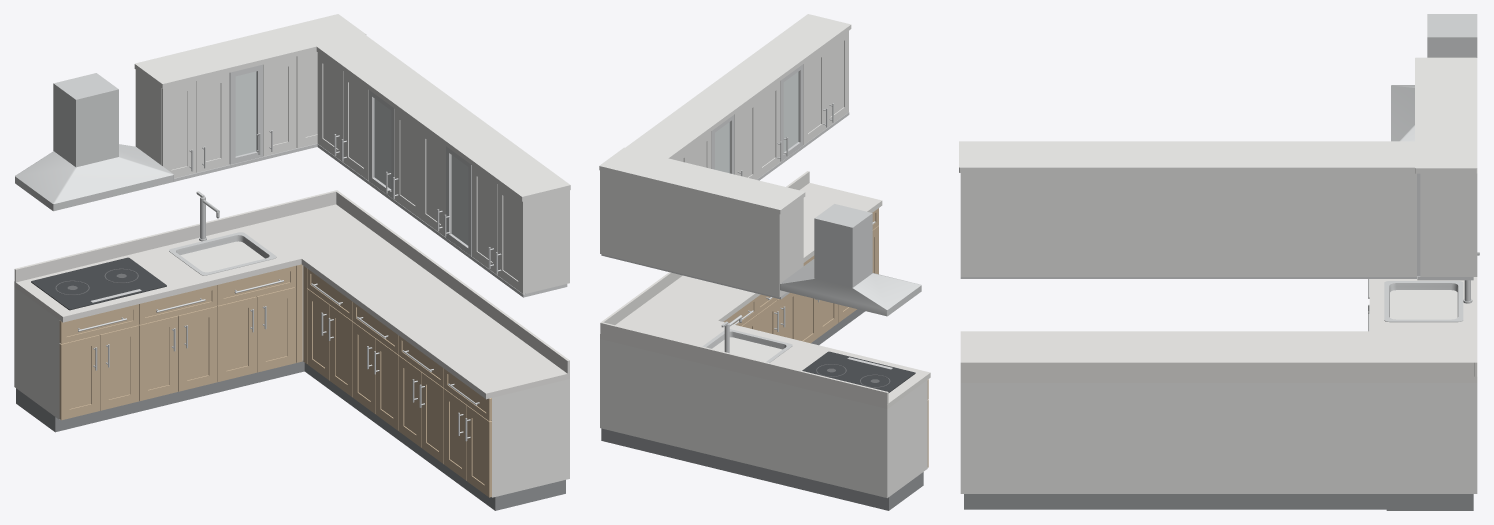
3 views of the same model, side by side, from view 1: azimuth 30°, elevation 25°; view 2: azimuth 150°, elevation 25°; view 3: azimuth 270°, elevation 25° (orthographic). The views are drawn at different scales.
Parts seen in each view (by area): view 1: Tủ bếp chữ L Dài cạnh chính=2400; Dài cạnh phụ=3000; Sâu tủ ; view 2: Tủ bếp chữ L Dài cạnh chính=2400; Dài cạnh phụ=3000; Sâu tủ ; view 3: Tủ bếp chữ L Dài cạnh chính=2400; Dài cạnh phụ=3000; Sâu tủ .
Boxes of the visible parts, x1,y1,x2,y2 form: Tủ bếp chữ L Dài cạnh chính=2400; Dài cạnh phụ=3000; Sâu tủ : (14,14,570,510); Tủ bếp chữ L Dài cạnh chính=2400; Dài cạnh phụ=3000; Sâu tủ : (599,14,930,510); Tủ bếp chữ L Dài cạnh chính=2400; Dài cạnh phụ=3000; Sâu tủ : (959,14,1479,510).
Bounding box in the file's own units: 2.41 × 2.2 × 3.02.
